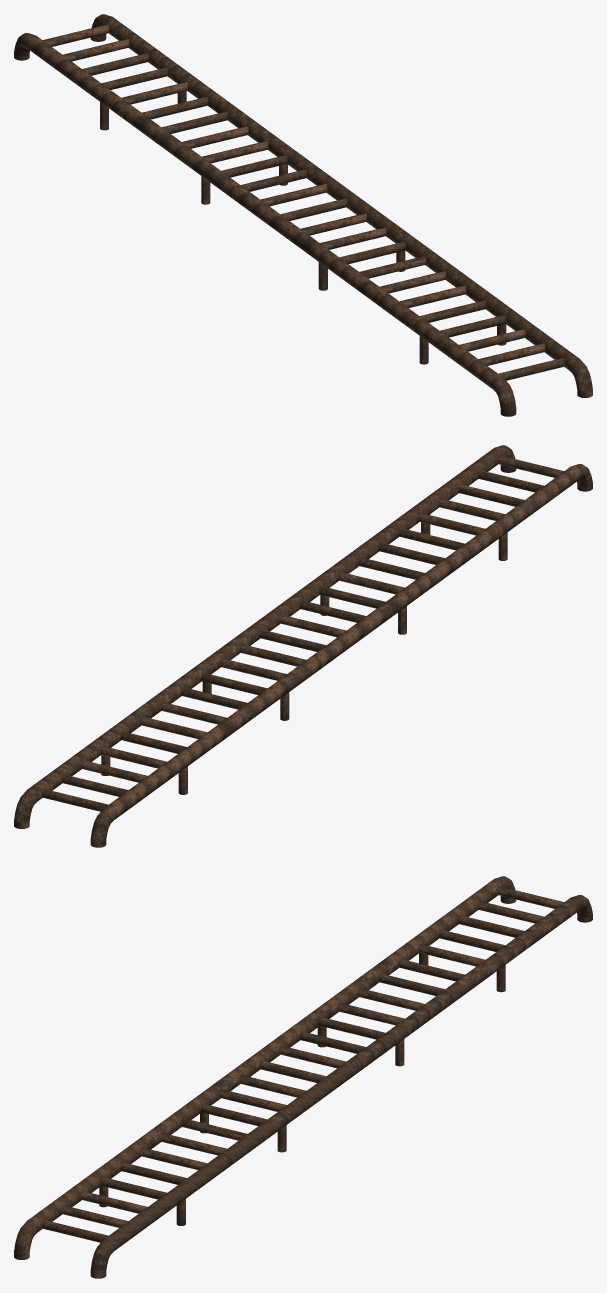
The model's file is Ladder.obj.
3 renders of one model, top to bottom at view 1: azimuth 30°, elevation 25°; view 2: azimuth 150°, elevation 25°; view 3: azimuth 330°, elevation 25°, orthographic.
Visible parts, largest first — view 1: Cylinder; view 2: Cylinder; view 3: Cylinder.
Part boxes in pixels (x1,y1,x2,y2): Cylinder: [14, 14, 592, 416]; Cylinder: [14, 445, 592, 847]; Cylinder: [14, 876, 592, 1278].
Bounding box in the file's own units: 0.3851 × 0.1604 × 3.66.
Materials: 1 (1 with a texture image).
